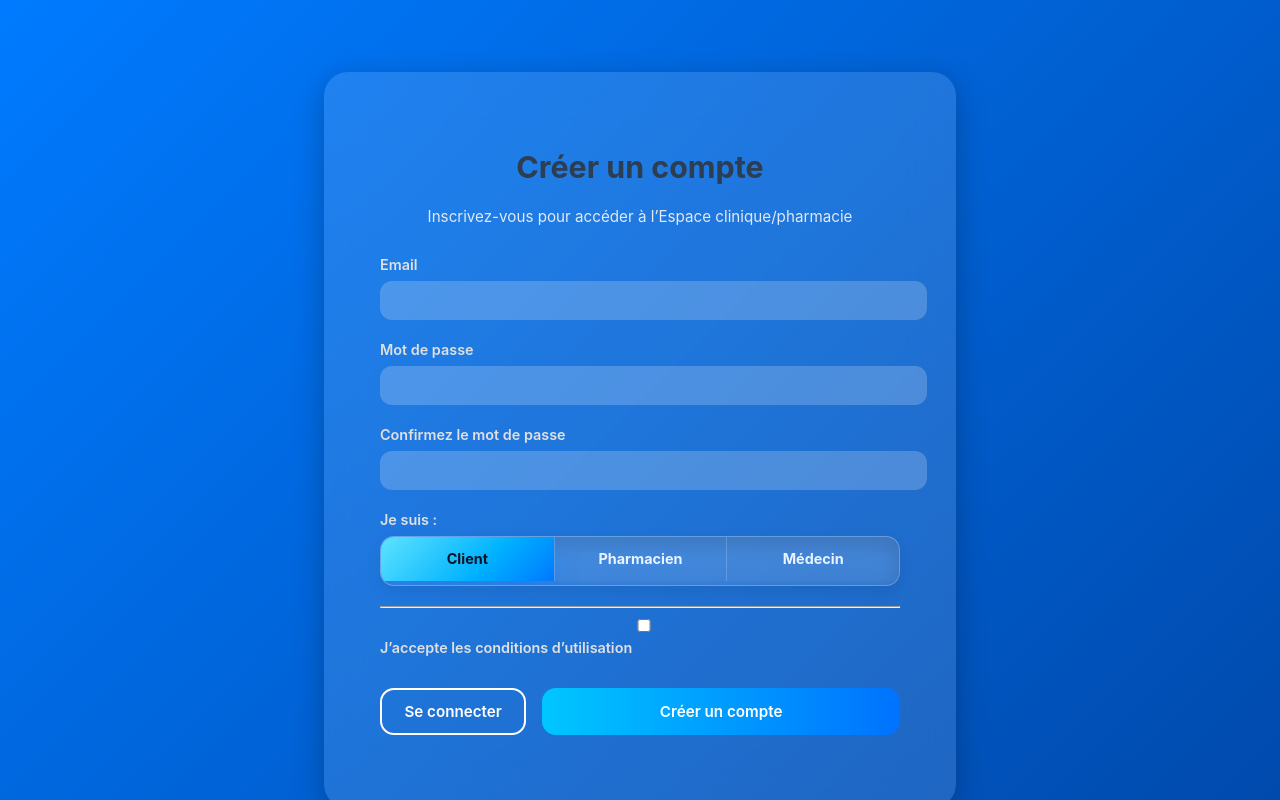
Signup page › le bouton est désactivé pendant la création
The image size is (1280, 800).
Type "test@test.com" into the field labelled "Email" at (654, 300), box x1=380 y1=281 x2=927 y2=320
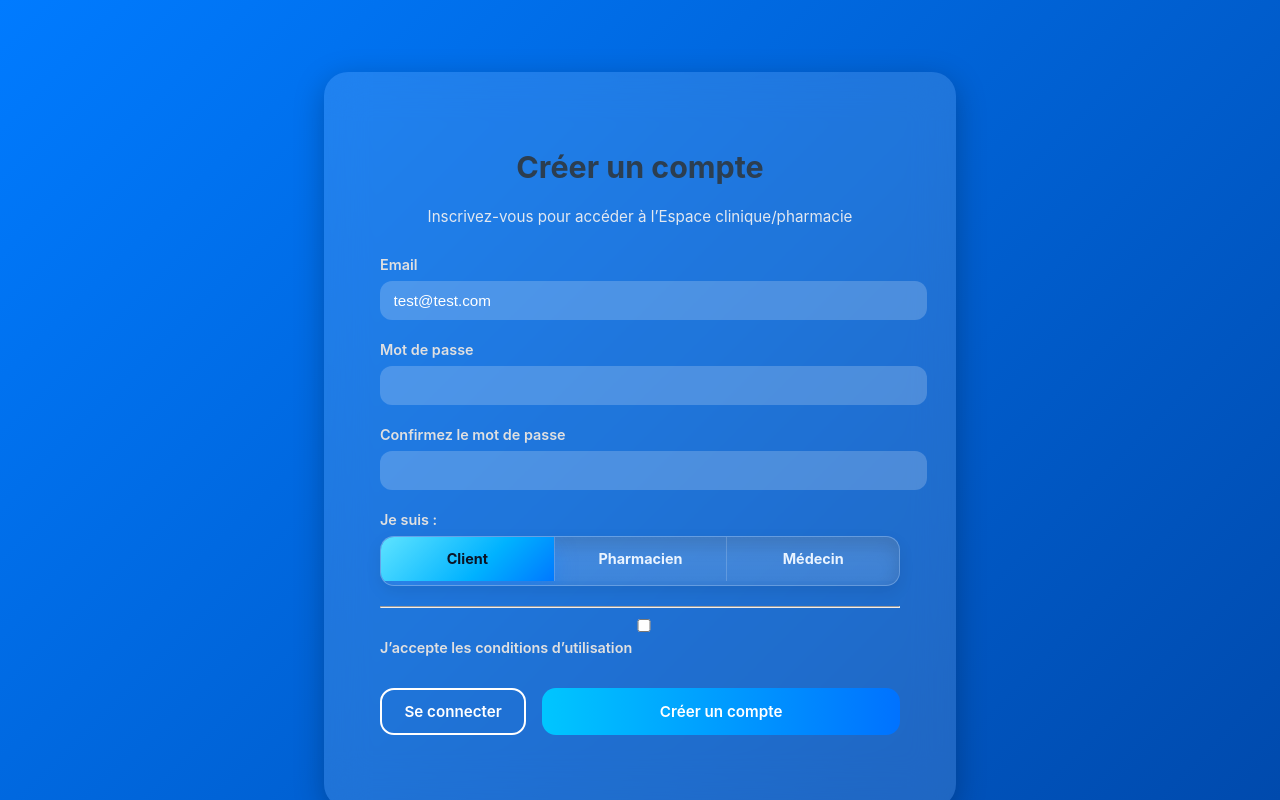
Type "123456" into the password field labelled "Mot de passe" at (654, 385), box x1=380 y1=366 x2=927 y2=405
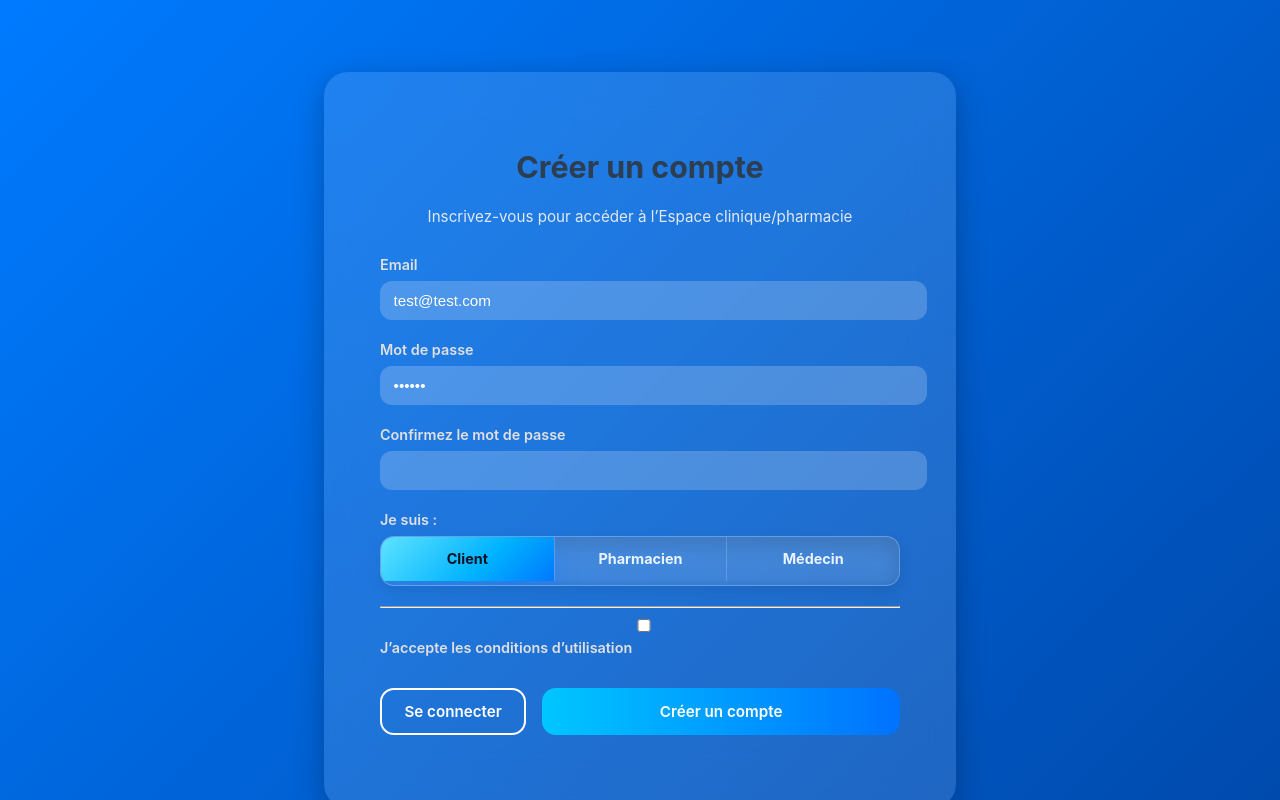
Type "123456" into the password field labelled "Confirmez le mot de passe" at (654, 470), box x1=380 y1=451 x2=927 y2=490
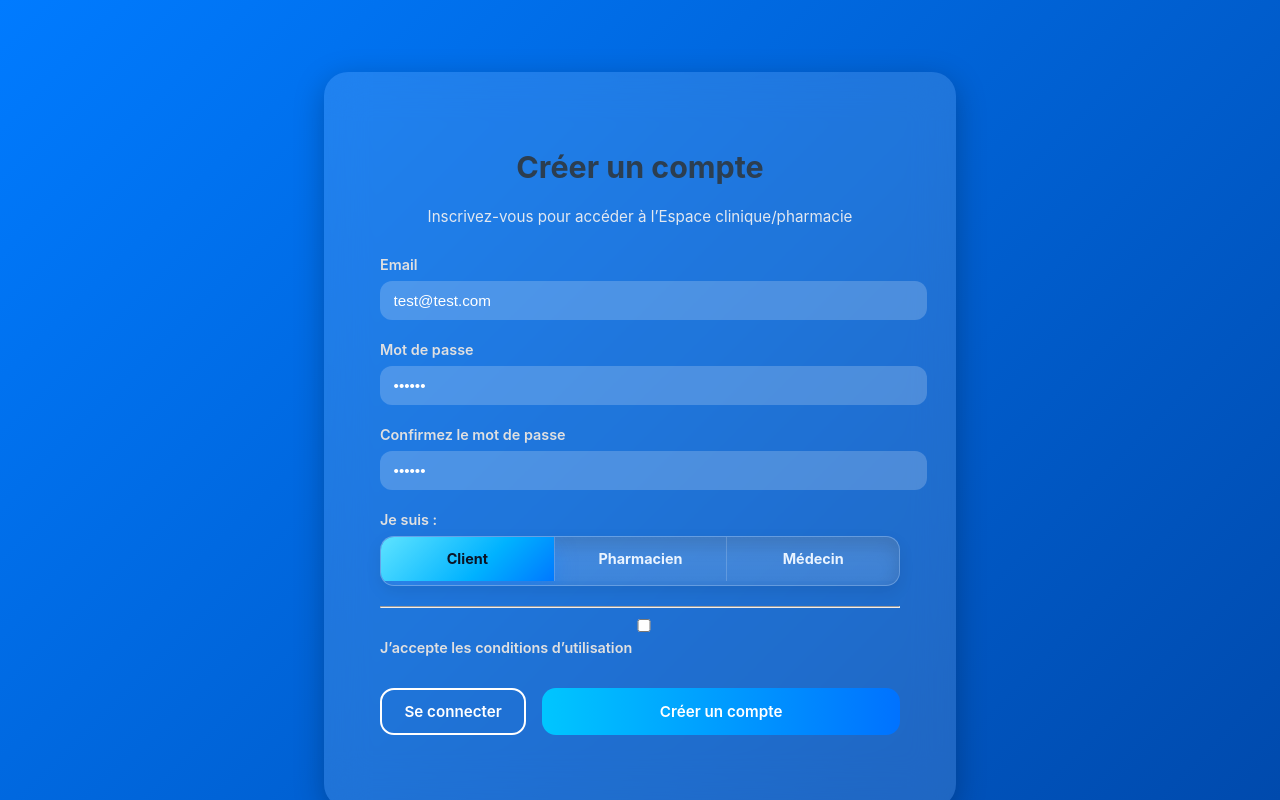
Click the checkbox labelled "J’accepte les conditions d’utilisation" at (644, 625), box x1=384 y1=618 x2=904 y2=632
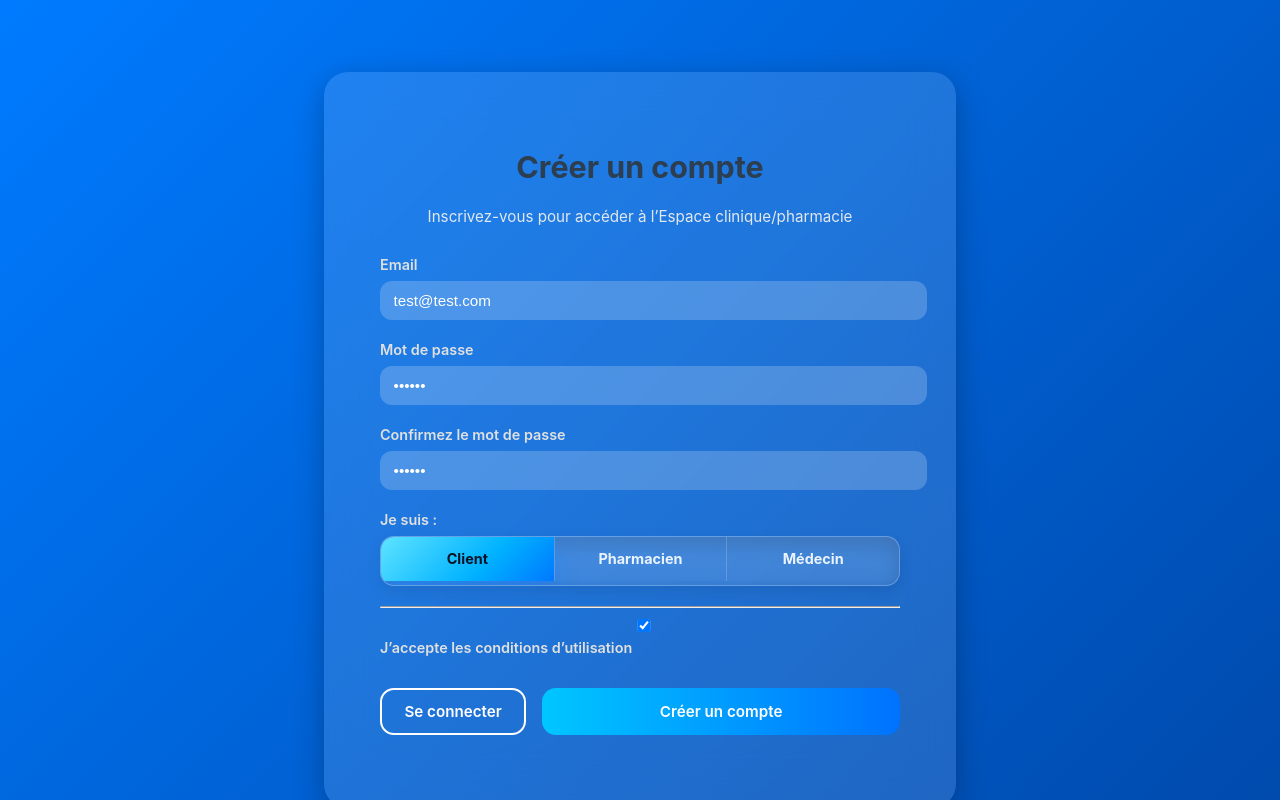
Click the button "Créer un compte" at (721, 711), box x1=542 y1=688 x2=900 y2=734
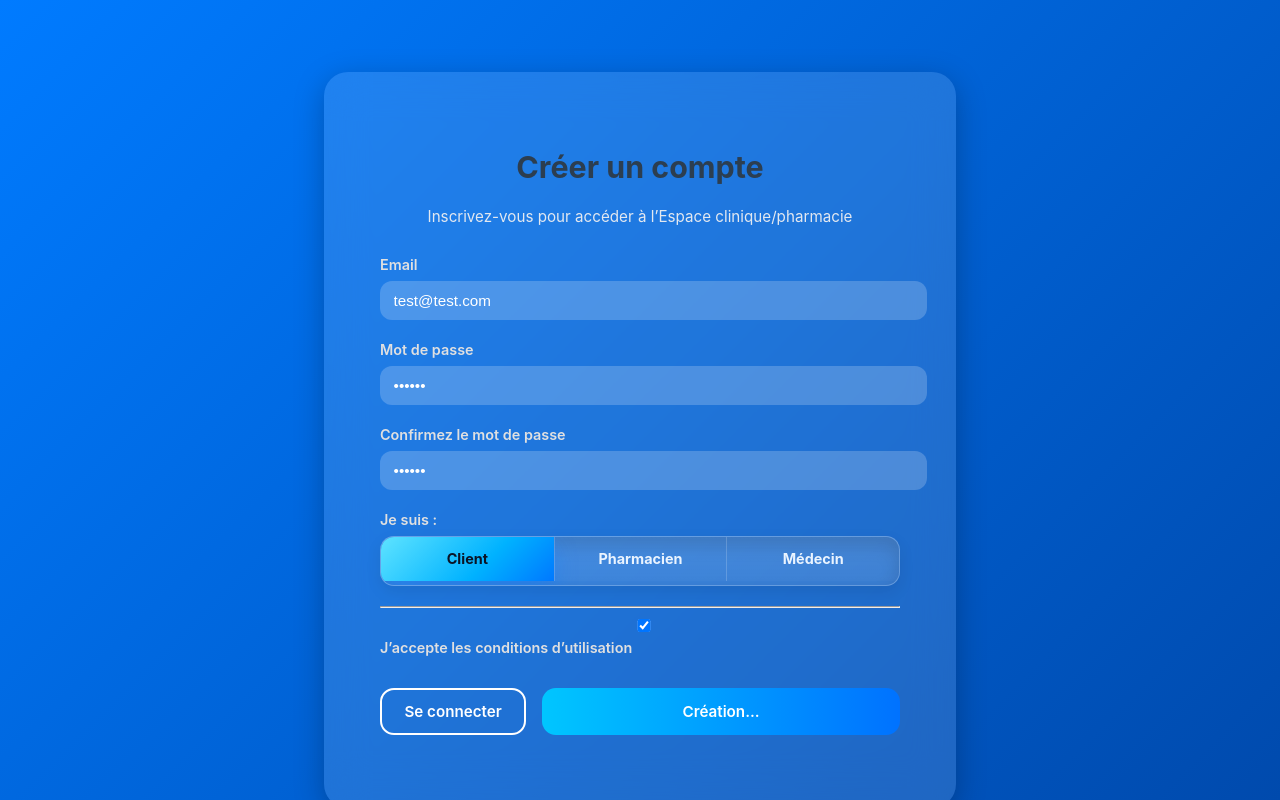
Expected: the button named "créer un compte" is disabled, x1=542 y1=688 x2=900 y2=734
